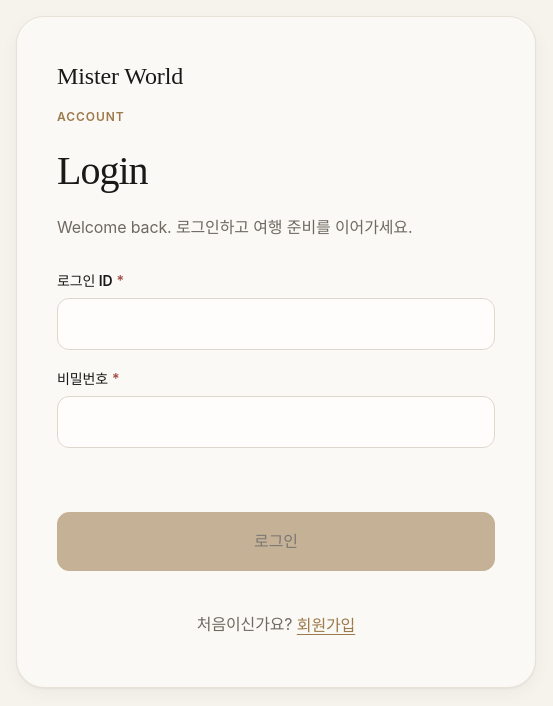
Test: LoginPage › uses generic recovery copy for unknown failures without exposing raw errors
Expected: the heading "Login" is shown, [57,148,148,193]
Step 1. Type "customer-01" into the field labelled "로그인 ID" → (276, 324), box [57,298,495,350]
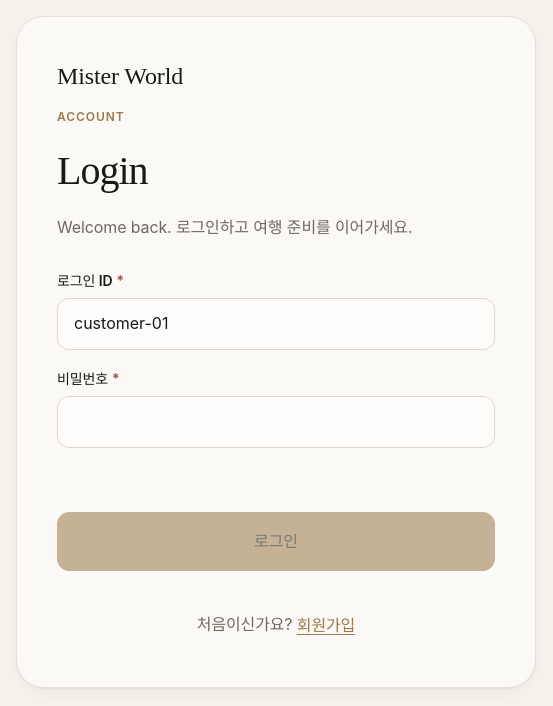
Step 2. Type "secret-input" into the password field labelled "비밀번호 *" → (276, 422), box [57,396,495,448]
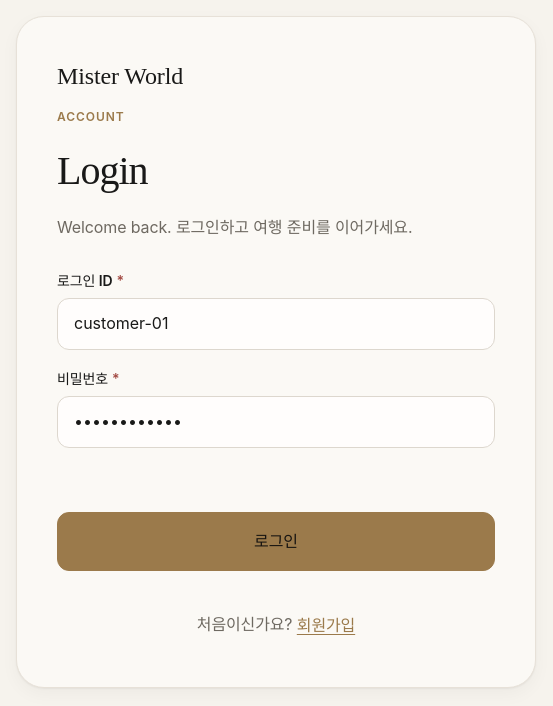
Step 3. Click the button "로그인" → (276, 542), box [57,512,495,571]
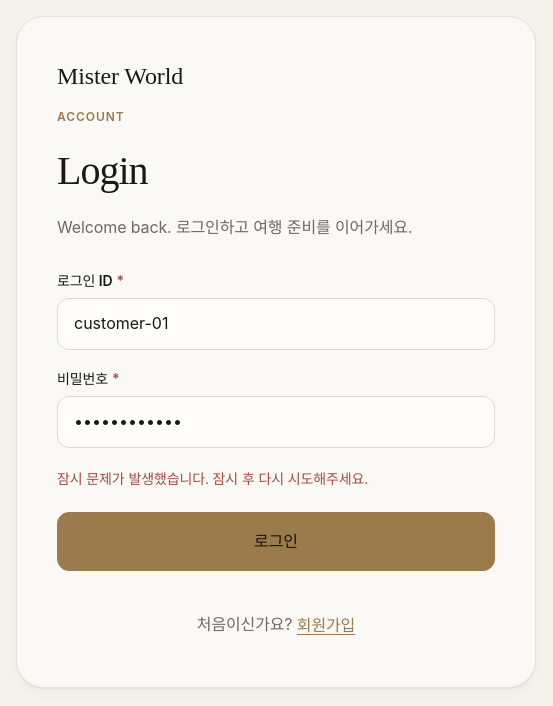
Result: the message reads "잠시 문제가 발생했습니다. 잠시 후 다시 시도해주세요." at [57,470,368,487]
